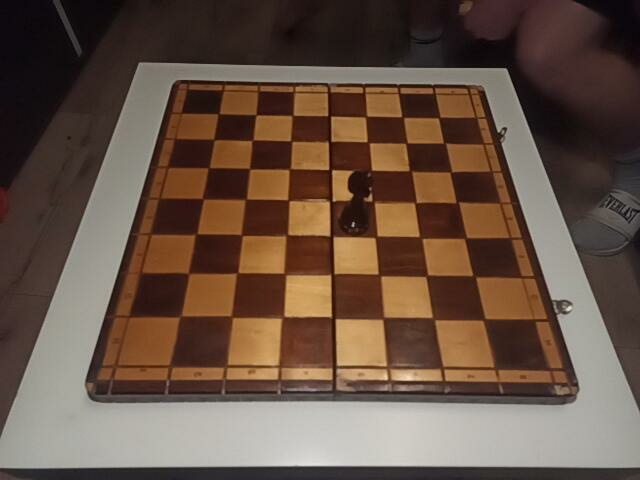B-Knight: (338, 170, 376, 234)
